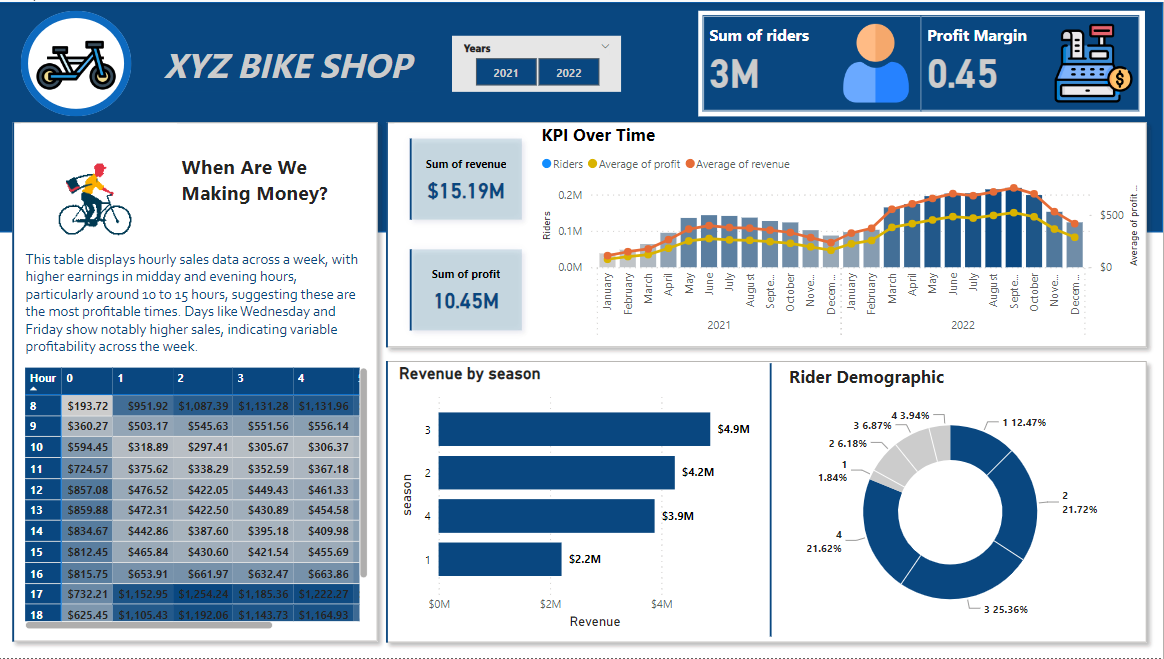

The dashboard page shown, as its layout file describes it:
{"tool":"powerbi","page":{"name":"Page 1","canvas":[1280,720],"ordinal":0},"visuals":[{"type":"shape","box":[0,0,1280,252.9],"z":0},{"type":"cardVisual","fields":{"Data":["Min(Query1.riders)"]},"box":[0,115.7,435.7,604.3],"z":1000},{"type":"cardVisual","fields":{"Data":["Min(Query1.riders)"]},"box":[410.1,115.9,869.6,281.2],"z":2000},{"type":"cardVisual","fields":{"Data":["Min(Query1.riders)"]},"box":[410.1,376.8,869.6,343.5],"z":3000},{"type":"pivotTable","fields":{"Values":["Avg(Query1.revenue)"],"Columns":["Query1.weekday"],"Rows":["Query1.hr"]},"box":[25.7,397.1,385.7,297.1],"z":4000},{"type":"textbox","box":[197.1,160,212.9,107.1],"z":5000},{"type":"textbox","box":[25.7,267.1,385.7,130],"z":6000},{"type":"cardVisual","fields":{"Data":["Min(Query1.season)"]},"box":[25.7,132.9,171.4,134.3],"z":7000},{"type":"lineClusteredColumnComboChart","title":"KPI Over Time","fields":{"Category":["Query1.dteday.Variation.Date Hierarchy.Year","Query1.dteday.Variation.Date Hierarchy.Month","Query1.dteday.Variation.Date Hierarchy.Day"],"Y":["Sum(Query1.riders)"],"Y2":["Avg(Query1.profit)","Avg(Query1.revenue)"]},"box":[592.9,132.9,667.1,244.3],"z":8000},{"type":"clusteredBarChart","fields":{"Category":["Query1.season"],"Y":["Sum(Query1.revenue)"]},"box":[435.7,397.1,408.6,297.1],"z":9000},{"type":"donutChart","title":"Rider Demographic ","fields":{"Category":["Query1.rider_type"],"Y":["Sum(Query1.riders)"],"Series":["Query1.season"]},"box":[864.3,398.6,364.3,300],"z":10000},{"type":"shape","box":[834.3,397.1,30,300],"z":11000},{"type":"cardVisual","title":"KPI Over Time","fields":{"Data":["Sum(Query1.revenue)","Sum(Query1.profit)"]},"box":[435.7,132.9,157.1,244.3],"z":12000},{"type":"cardVisual","fields":{"Data":["Sum(Query1.riders)","Query1.Profit Margin"]},"box":[770,10,490,115.7],"z":13000},{"type":"shape","box":[25.7,10,121.4,115.7],"z":14000},{"type":"image","box":[38.6,18.6,97.1,100],"z":15000},{"type":"textbox","box":[171.4,38.6,294.3,60],"z":16000},{"type":"slicer","fields":{"Values":["Query1.Years"]},"box":[500,37.1,185.7,61.4],"z":17000}]}

Visuals, with their boxes in screenshot pixels (x1, y1, x2, y2), scaled from the page's 1280x720 canvas onto the 1164x659 screenshot:
shape: locate(0, 0, 1163, 231)
cardVisual - Min(Query1.riders): locate(0, 106, 396, 658)
cardVisual - Min(Query1.riders): locate(373, 106, 1163, 363)
cardVisual - Min(Query1.riders): locate(373, 345, 1163, 658)
pivotTable - Avg(Query1.revenue) x Query1.weekday: locate(23, 363, 374, 635)
textbox: locate(179, 146, 373, 244)
textbox: locate(23, 244, 374, 363)
cardVisual - Min(Query1.season): locate(23, 122, 179, 245)
"KPI Over Time" lineClusteredColumnComboChart: locate(539, 122, 1146, 345)
clusteredBarChart - Query1.season x Sum(Query1.revenue): locate(396, 363, 768, 635)
"Rider Demographic " donutChart: locate(786, 365, 1117, 639)
shape: locate(759, 363, 786, 638)
"KPI Over Time" cardVisual: locate(396, 122, 539, 345)
cardVisual - Sum(Query1.riders) x Query1.Profit Margin: locate(700, 9, 1146, 115)
shape: locate(23, 9, 134, 115)
image: locate(35, 17, 123, 109)
textbox: locate(156, 35, 423, 90)
slicer - Query1.Years: locate(455, 34, 624, 90)
